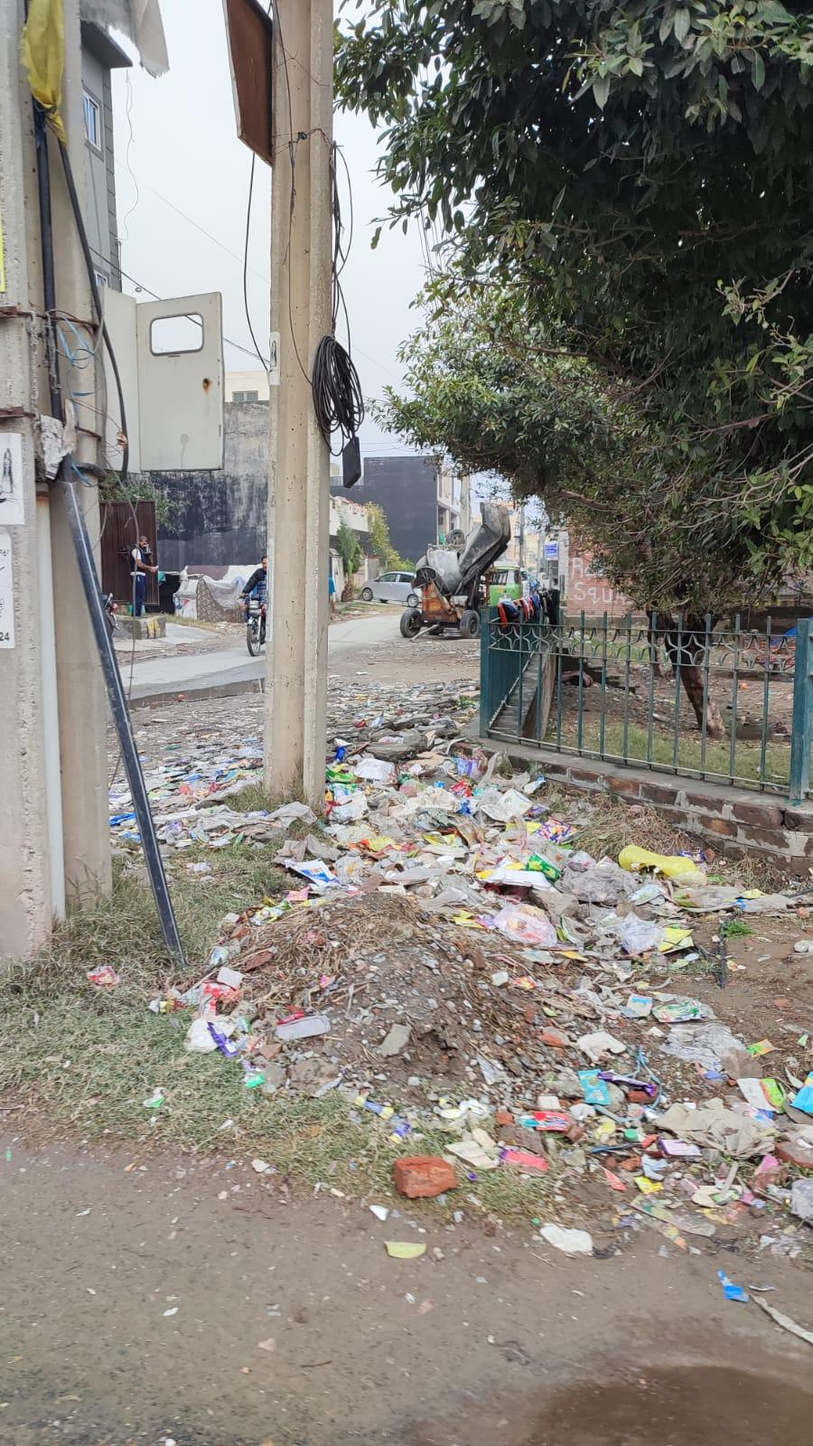garbage: (185, 672, 813, 1285)
